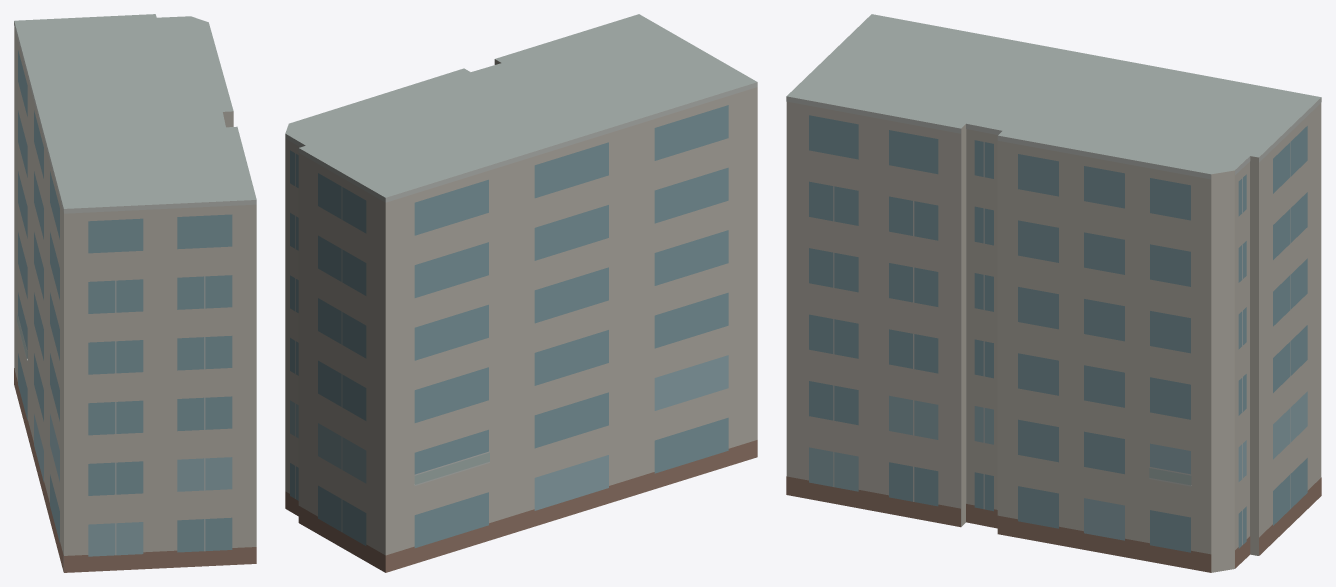
The model's file is survey-upis-32562303.glb.
3 renders of one model, left to right at view 1: azimuth 30°, elevation 25°; view 2: azimuth 150°, elevation 25°; view 3: azimuth 270°, elevation 25°, orthographic. The views are drawn at different scales.
Visible parts, largest first — view 1: survey-upis-32562303.tmp; view 2: survey-upis-32562303.tmp; view 3: survey-upis-32562303.tmp.
Part boxes in pixels (x1,y1,x2,y2): survey-upis-32562303.tmp: (14,14,256,572); survey-upis-32562303.tmp: (285,14,757,572); survey-upis-32562303.tmp: (786,14,1321,572).
Size of the model in its own units: 16.14 by 18.7 by 22.76.
